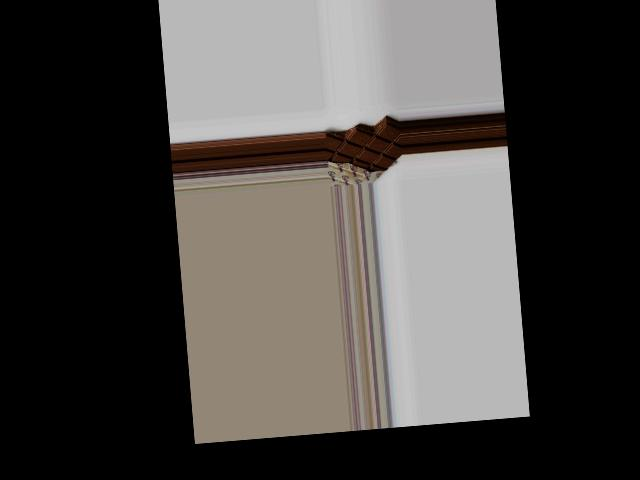chocolate: (323, 120, 403, 186)
